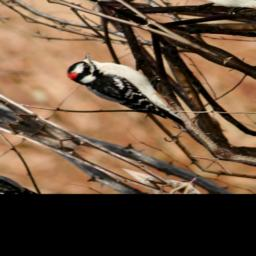Woodpecker: (57, 47, 217, 134)
